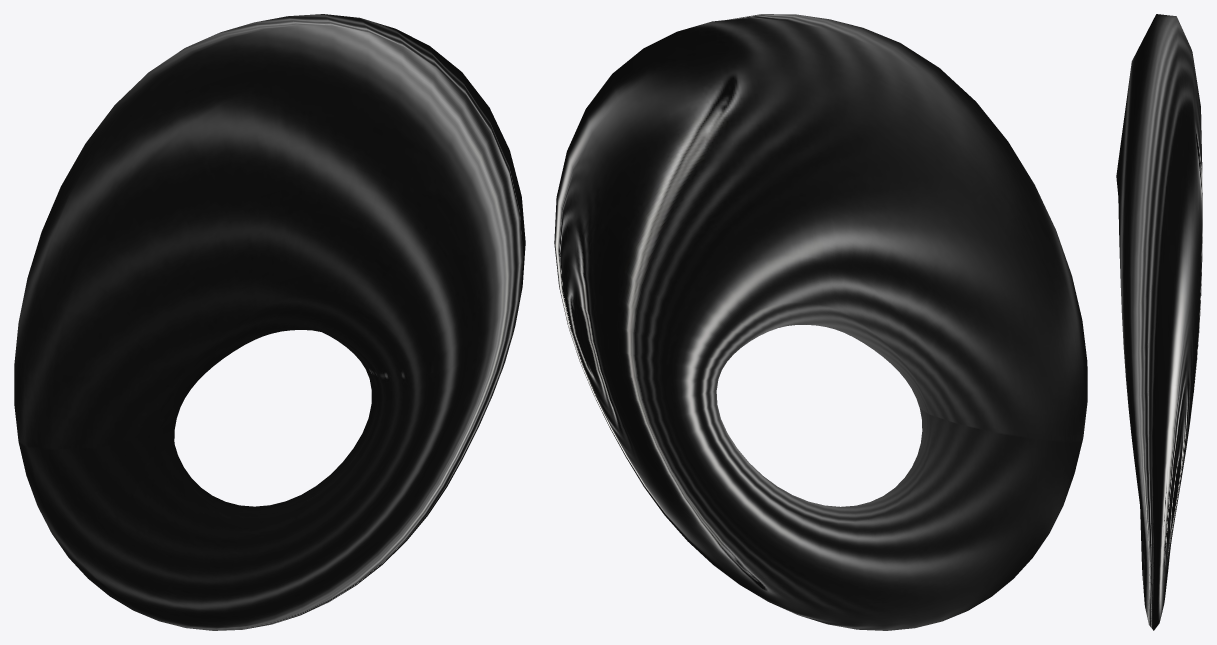
The model's file is VIDEOCON.gltf.
3 renders of one model, left to right at view 1: azimuth 30°, elevation 25°; view 2: azimuth 150°, elevation 25°; view 3: azimuth 270°, elevation 25°, orthographic. The views are drawn at different scales.
Parts seen in each view (by area): view 1: Rosca.008; view 2: Rosca.008; view 3: Rosca.008.
Boxes of the visible parts, <box> form: Rosca.008: <box>14,14,525,630</box>; Rosca.008: <box>554,14,1087,630</box>; Rosca.008: <box>1116,14,1202,630</box>.
Bounding box in the file's own units: 44.96 × 49.61 × 6.88.
1 material, 1 textured.
